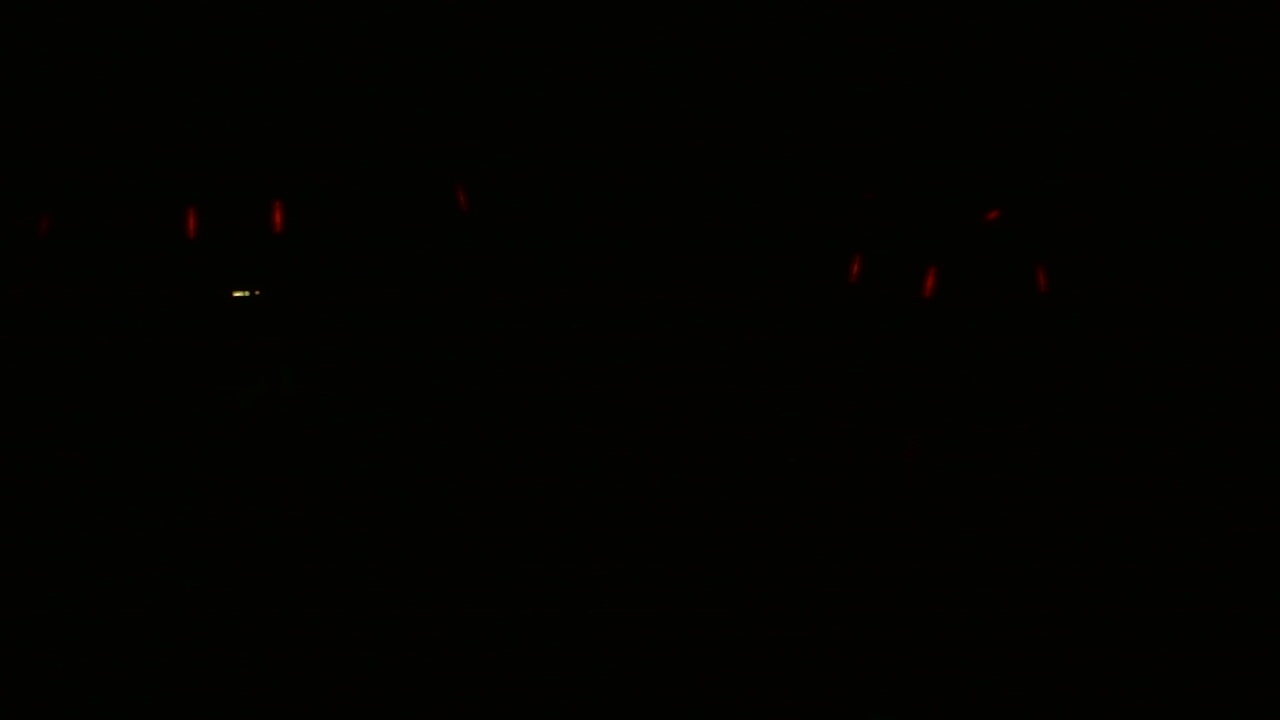pair1: (183, 198, 288, 242), (844, 252, 938, 297)
